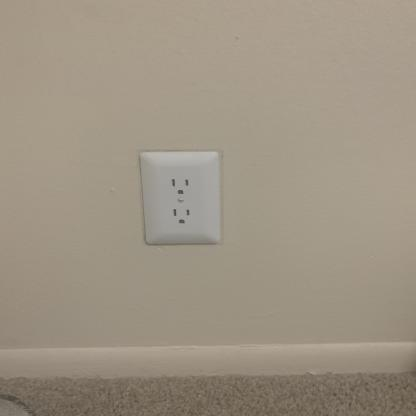OUTLET: (139, 152, 223, 246)
